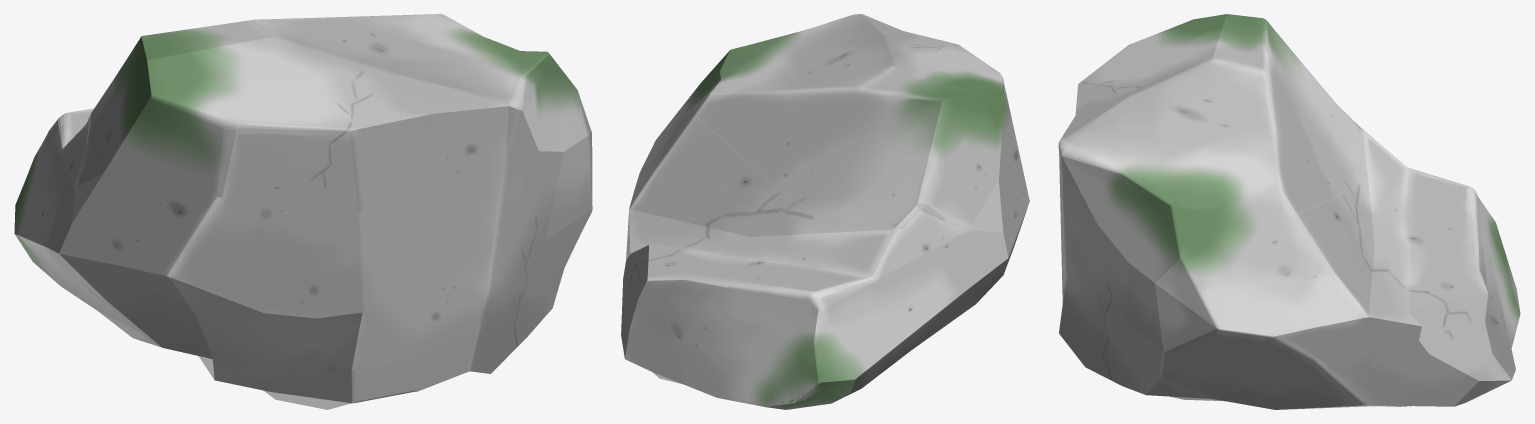
The model's file is Rocher 7.fbx.
3 views of the same model, side by side, from view 1: azimuth 30°, elevation 25°; view 2: azimuth 150°, elevation 25°; view 3: azimuth 270°, elevation 25° (orthographic). The views are drawn at different scales.
Visible parts, largest first — view 1: Cube; view 2: Cube; view 3: Cube.
Boxes of the visible parts, left/top/right/bottom form: Cube: left=14, top=14, right=592, bottom=409; Cube: left=621, top=14, right=1029, bottom=409; Cube: left=1058, top=14, right=1520, bottom=409.
Bounding box in the file's own units: 232 × 155 × 227.
1 material, 1 textured.
